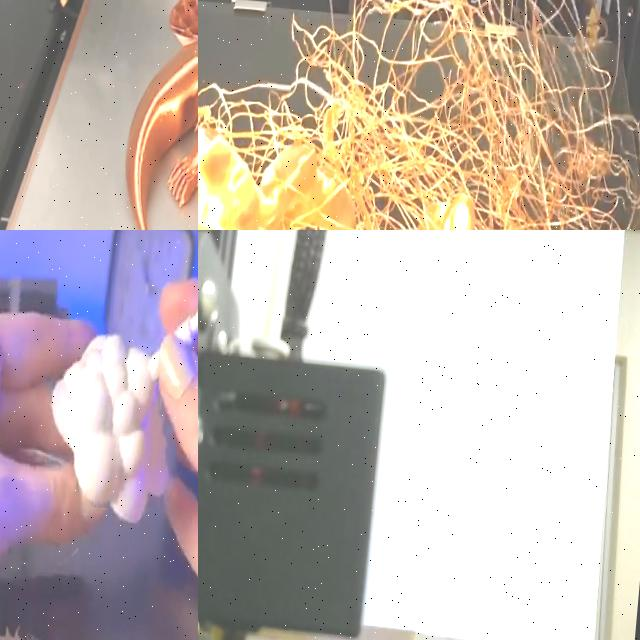spaghetti: (198, 0, 640, 230), (212, 627, 246, 640)
